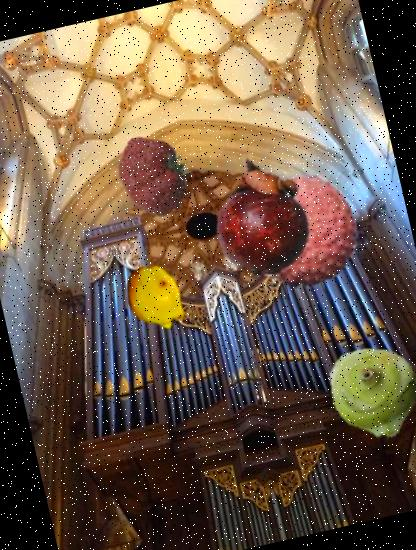Kohlrabi: (317, 337, 416, 450)
Lychee: (231, 160, 370, 300)
Mangostan: (194, 146, 334, 286)
Quince: (113, 257, 194, 339)
Strawberry: (104, 124, 204, 224)
